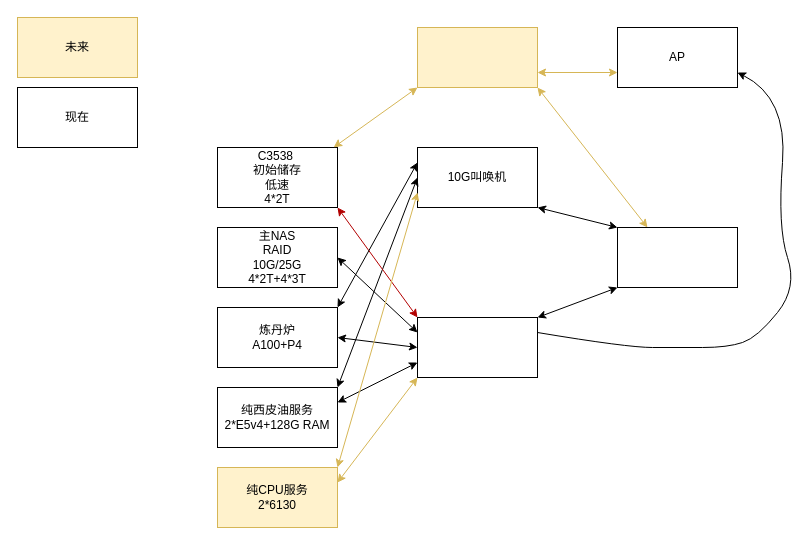
Some shapes in this 809 by 545 pixel diagram are drawn without their labels. Each missing label, with the box of its shape:
1G 叫唤机: (416, 316, 538, 378)
2.5G？: (416, 26, 538, 88)
台式机*2: (616, 226, 738, 288)
